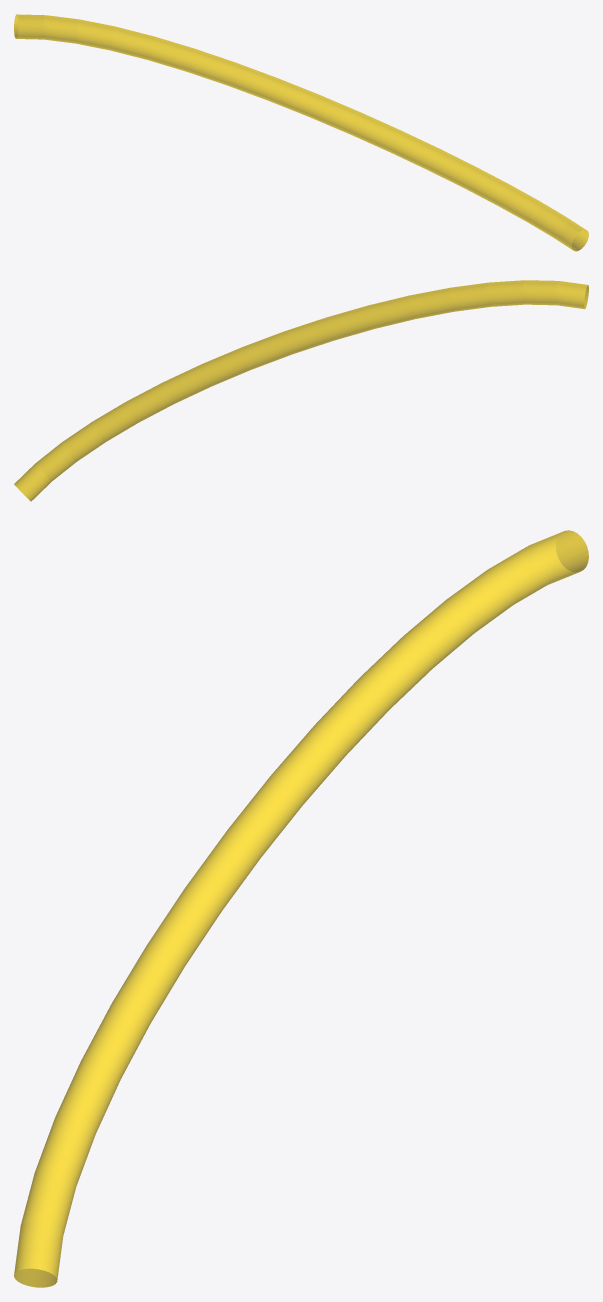
Rendered from Event_27938768_track_43.fbx.
3 renders of one model, top to bottom at view 1: azimuth 30°, elevation 25°; view 2: azimuth 210°, elevation 25°; view 3: azimuth 270°, elevation 25°, orthographic. The views are drawn at different scales.
Visible parts, largest first — view 1: Model; view 2: Model; view 3: Model.
Boxes of the visible parts, <box> form: Model: <box>14,14,588,251</box>; Model: <box>14,280,588,501</box>; Model: <box>14,530,588,1287</box>.
Size of the model in its own units: 0.8035 by 0.4062 by 0.5238.
